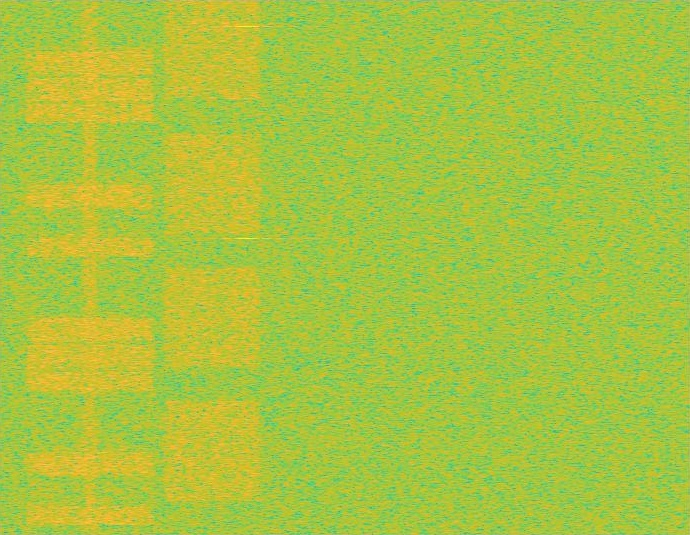5G: (161, 0, 265, 534)
DSSS: (81, 0, 100, 534)
LTE: (21, 0, 159, 534)
Radar: (240, 0, 253, 534)
